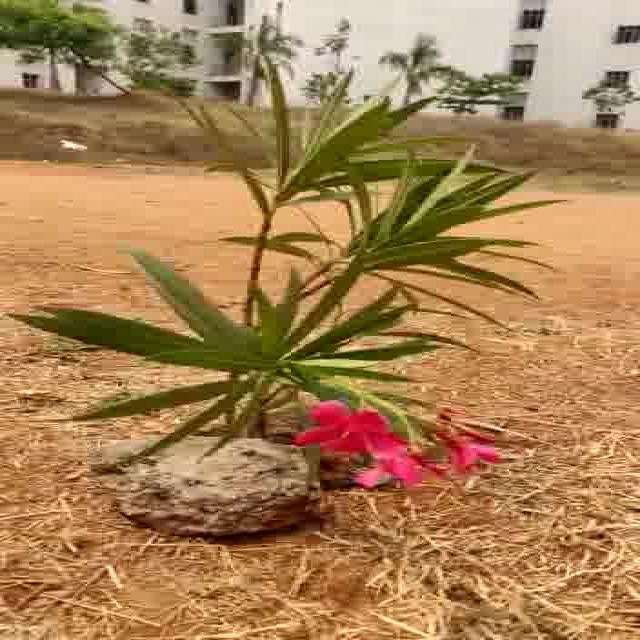OLEANDER: (14, 17, 588, 463)
